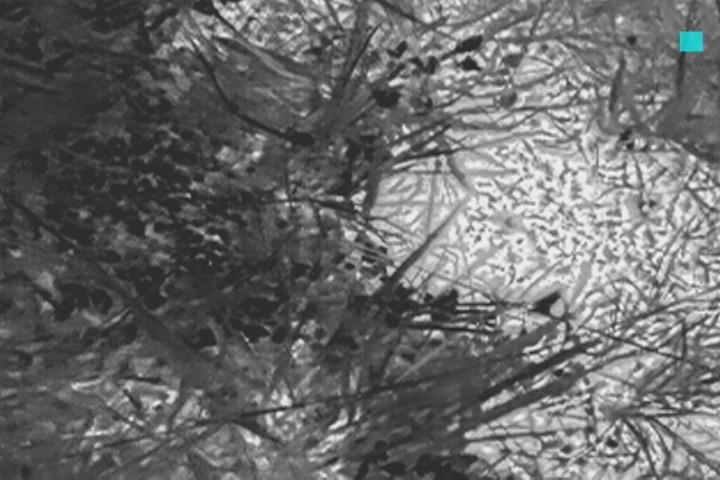landmine: (447, 139, 691, 294)
